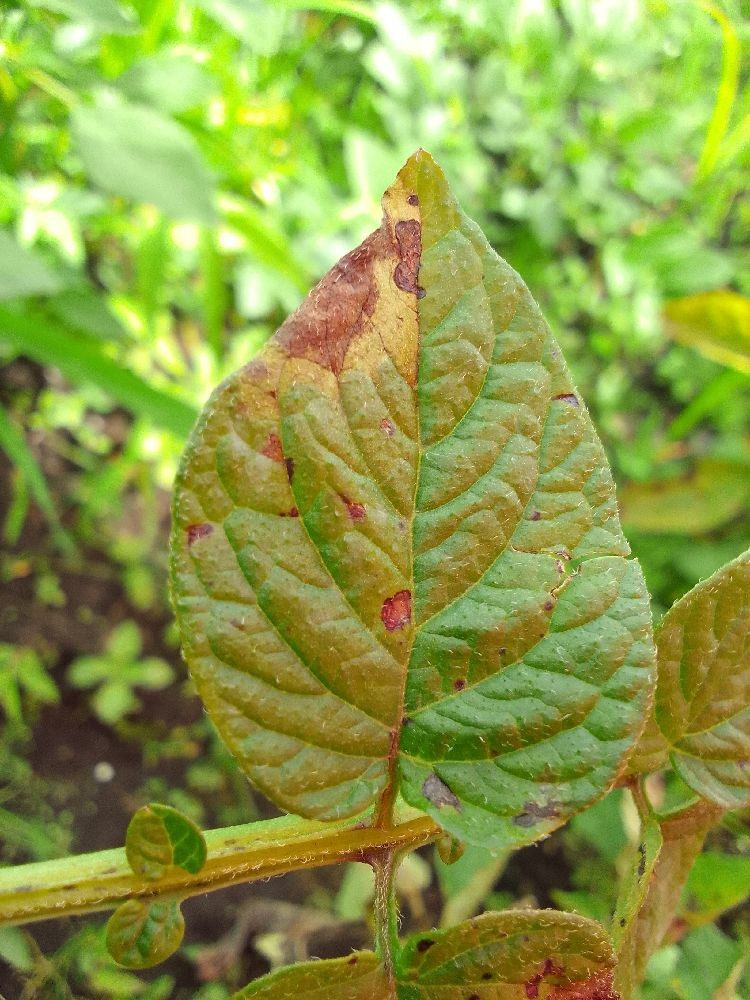late_blight: (466, 685, 608, 772), (0, 342, 86, 418), (622, 351, 688, 440)
